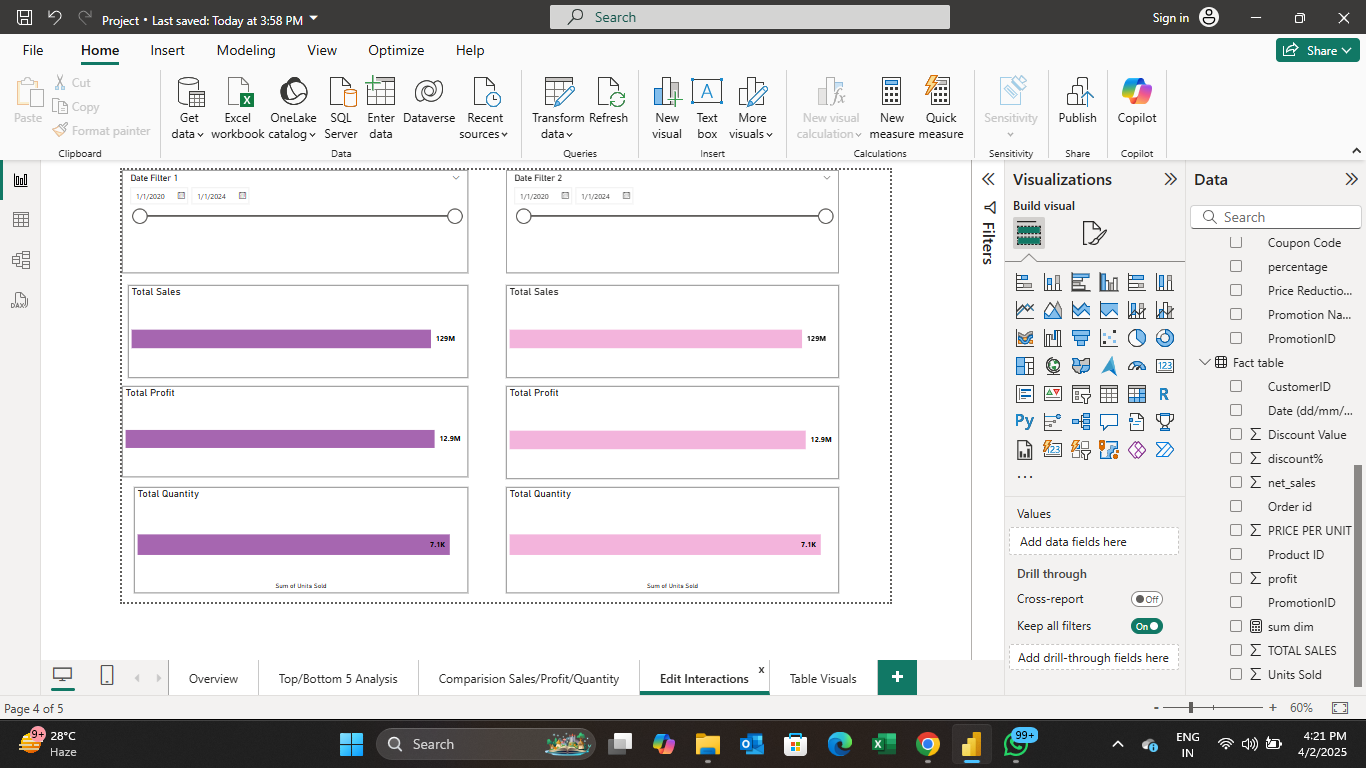

What the dashboard file says about the page in this screenshot:
{"tool":"powerbi","page":{"name":"Edit Interactions","canvas":[1280,720],"ordinal":3},"visuals":[{"type":"slicer","fields":{"Values":["Fact table.Date (dd/mm/yyyy)"]},"box":[0,0,576.7,171.7],"z":0},{"type":"slicer","fields":{"Values":["Fact table.Date (dd/mm/yyyy)"]},"box":[640,0,555,171.7],"z":1000},{"type":"barChart","title":"Total Sales ","fields":{"Y":["Sum(Fact table.net_sales)"]},"box":[10,191.7,566.7,155],"z":2000},{"type":"barChart","title":"Total Profit","fields":{"Y":["Sum(Fact table.profit)"]},"box":[0,360,576.7,151.7],"z":3000},{"type":"barChart","title":"Total Quantity","fields":{"Y":["Sum(Fact table.Units Sold)"]},"box":[20,528.3,556.7,176.7],"z":4000},{"type":"barChart","title":"Total Quantity","fields":{"Y":["Sum(Fact table.Units Sold)"]},"box":[640,528.3,555,176.7],"z":5000},{"type":"barChart","title":"Total Profit","fields":{"Y":["Sum(Fact table.profit)"]},"box":[640,360,555,155],"z":6000},{"type":"barChart","title":"Total Sales ","fields":{"Y":["Sum(Fact table.net_sales)"]},"box":[640,191.7,555,155],"z":7000}]}

Visuals, with their boxes on the page's 1280x720 design canvas (x1, y1, x2, y2). These are canvas units, not pixel positions in the 1366x768 screenshot, which may show the page scaled, cropped or inside an application window:
slicer - Fact table.Date (dd/mm/yyyy): locate(0, 0, 577, 172)
slicer - Fact table.Date (dd/mm/yyyy): locate(640, 0, 1195, 172)
"Total Sales " barChart: locate(10, 192, 577, 347)
"Total Profit" barChart: locate(0, 360, 577, 512)
"Total Quantity" barChart: locate(20, 528, 577, 705)
"Total Quantity" barChart: locate(640, 528, 1195, 705)
"Total Profit" barChart: locate(640, 360, 1195, 515)
"Total Sales " barChart: locate(640, 192, 1195, 347)
